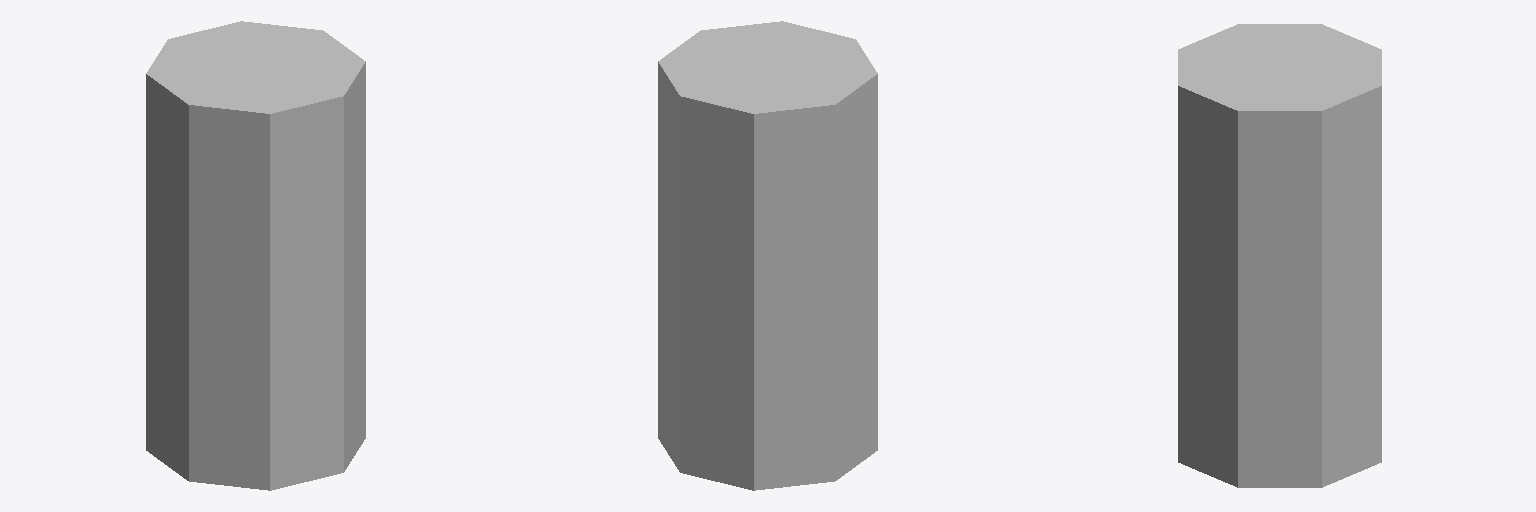
Rendered from StationMeshCore.obj.
The picture shows the model from 3 angles: view 1: azimuth 30°, elevation 25°; view 2: azimuth 150°, elevation 25°; view 3: azimuth 270°, elevation 25°; orthographic projection.
Parts seen in each view (by area): view 1: CentralSpire_Cylinder; view 2: CentralSpire_Cylinder; view 3: CentralSpire_Cylinder.
Boxes of the visible parts, x1,y1,x2,y2 form: CentralSpire_Cylinder: [146, 21, 365, 490]; CentralSpire_Cylinder: [658, 21, 877, 490]; CentralSpire_Cylinder: [1178, 24, 1381, 487].
Size of the model in its own units: 14.78 by 30 by 14.78.